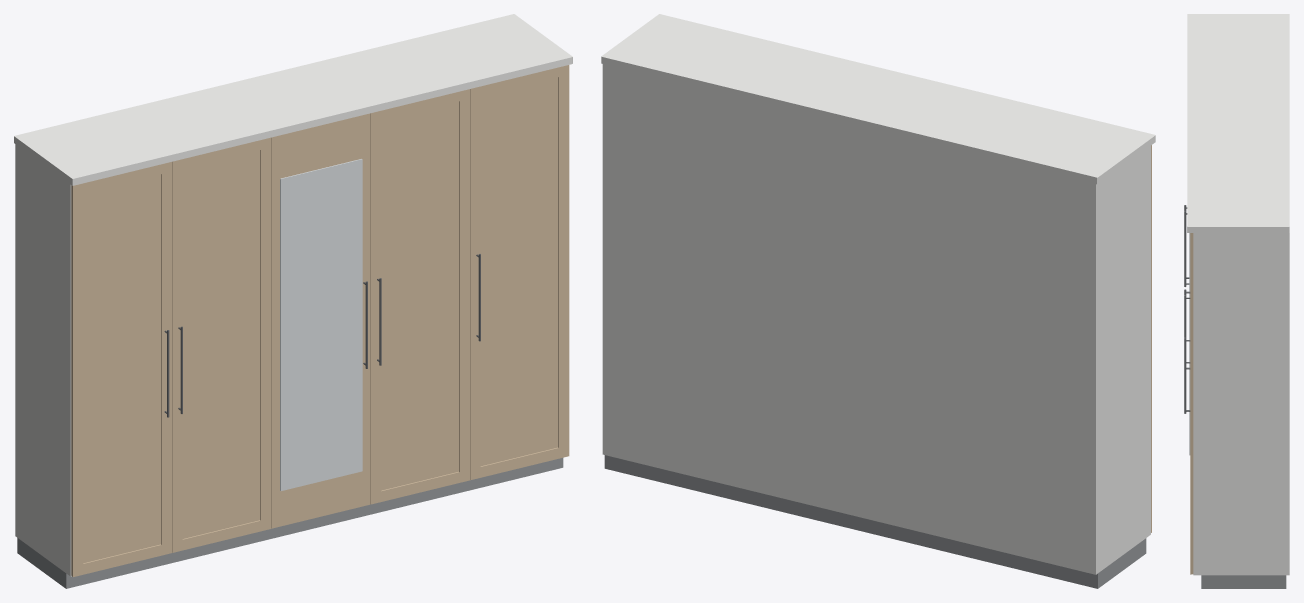
The picture shows the model from 3 angles, left to right: view 1: azimuth 30°, elevation 25°; view 2: azimuth 150°, elevation 25°; view 3: azimuth 270°, elevation 25°; orthographic projection. The views are drawn at different scales.
Parts seen in each view (by area): view 1: Tủ áo cánh mở Chiều rộng=3000; Chiều sâu=600; view 2: Tủ áo cánh mở Chiều rộng=3000; Chiều sâu=600; view 3: Tủ áo cánh mở Chiều rộng=3000; Chiều sâu=600.
Boxes of the visible parts, left/top/right/bottom form: Tủ áo cánh mở Chiều rộng=3000; Chiều sâu=600: left=14, top=14, right=572, bottom=588; Tủ áo cánh mở Chiều rộng=3000; Chiều sâu=600: left=601, top=14, right=1155, bottom=588; Tủ áo cánh mở Chiều rộng=3000; Chiều sâu=600: left=1184, top=14, right=1289, bottom=588.
Bounding box in the file's own units: 3.02 × 2.4 × 0.633.
